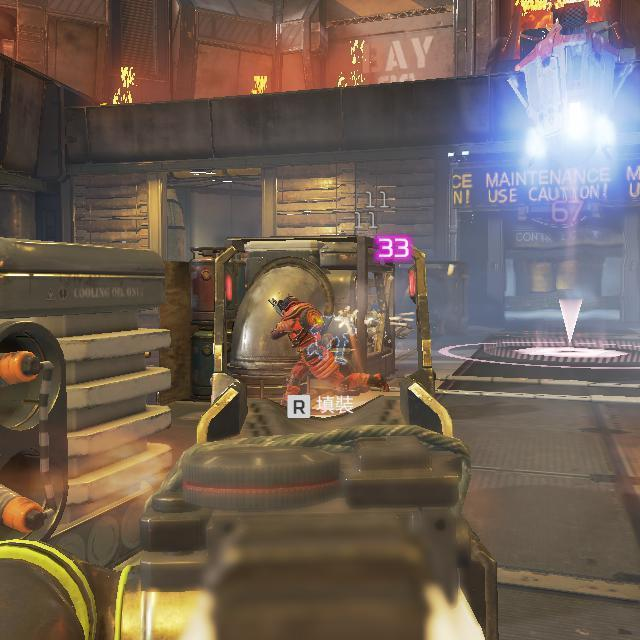avatar: (270, 296, 342, 403)
